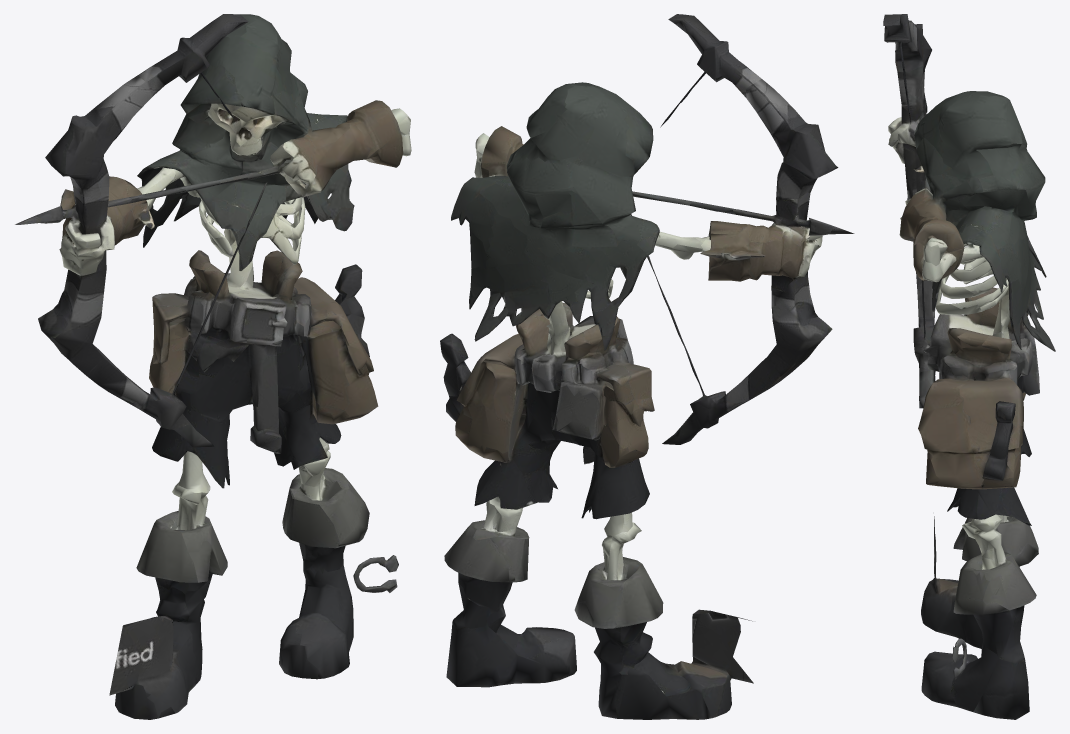
The model's file is warlock.glb.
3 views of the same model, side by side, from view 1: azimuth 30°, elevation 25°; view 2: azimuth 150°, elevation 25°; view 3: azimuth 270°, elevation 25° (orthographic). The views are drawn at different scales.
Visible parts, largest first — view 1: model; view 2: model; view 3: model.
Part boxes in pixels (left/top/right/bottom): model: left=15, top=14, right=411, bottom=719; model: left=440, top=14, right=854, bottom=719; model: left=883, top=14, right=1055, bottom=719.
Bounding box in the file's own units: 0.5994 × 1 × 0.2501.
Materials: 1 (1 with a texture image).
